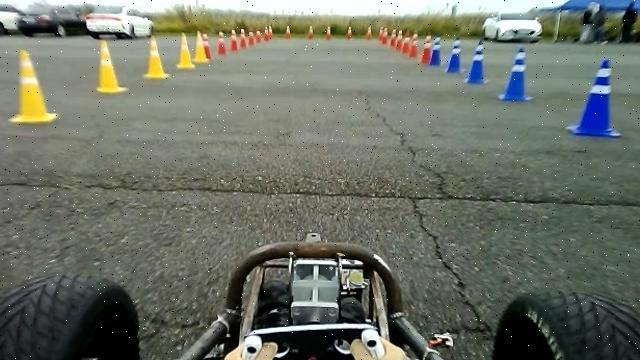blue cone: (568, 57, 622, 138), (499, 46, 534, 101), (465, 40, 490, 84), (445, 37, 463, 76), (429, 36, 443, 66)
yellow cone: (8, 49, 59, 124), (95, 38, 128, 92), (143, 35, 170, 79), (174, 31, 196, 68)
